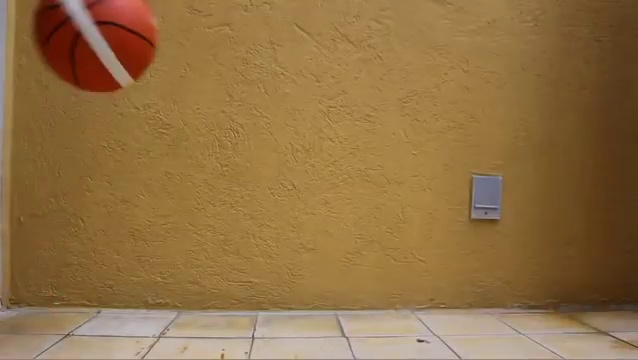ball: (31, 3, 161, 93)
